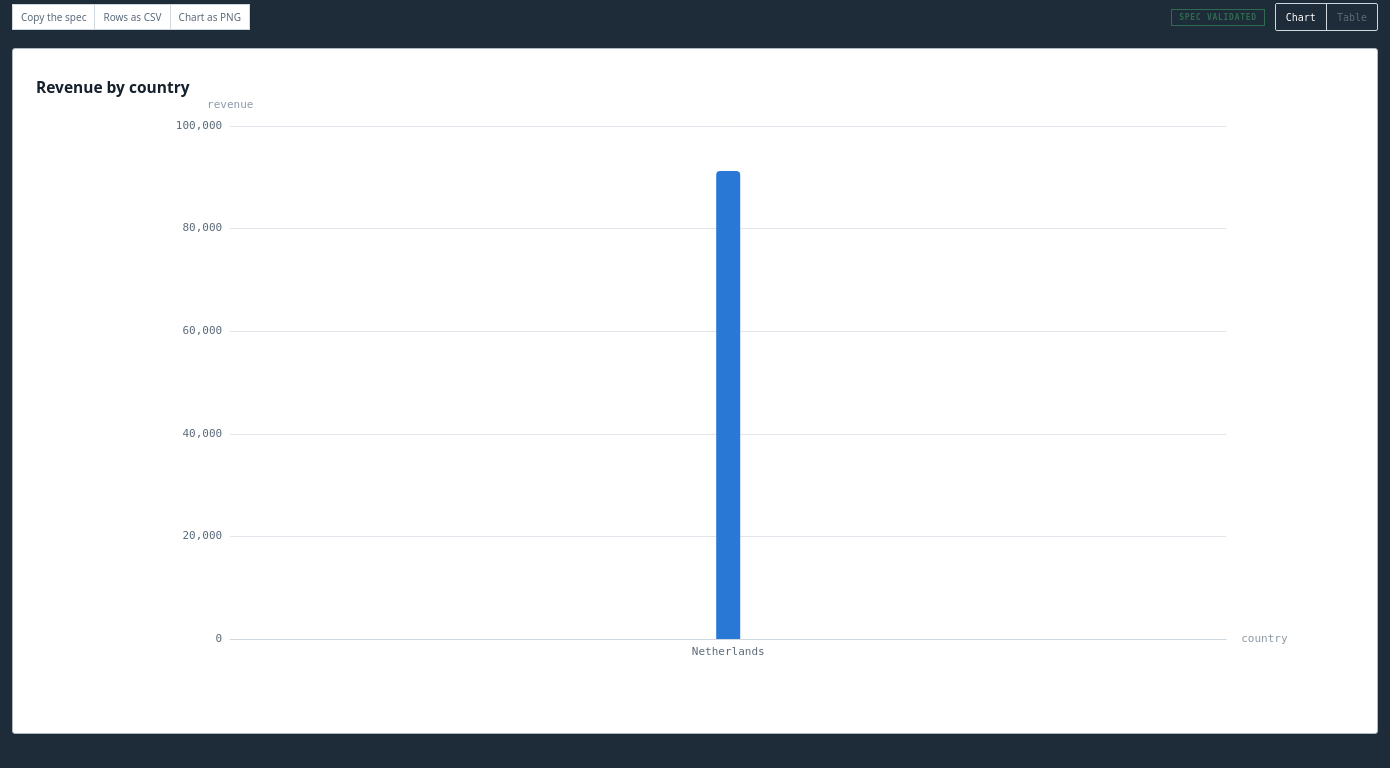
it: getting a chart out of the tab › hands the rows over as a file named after the chart
The width and height of the screenshot is (1390, 768).
Click the button "Rows as CSV".
click(132, 17)  # box [94,4,170,30]
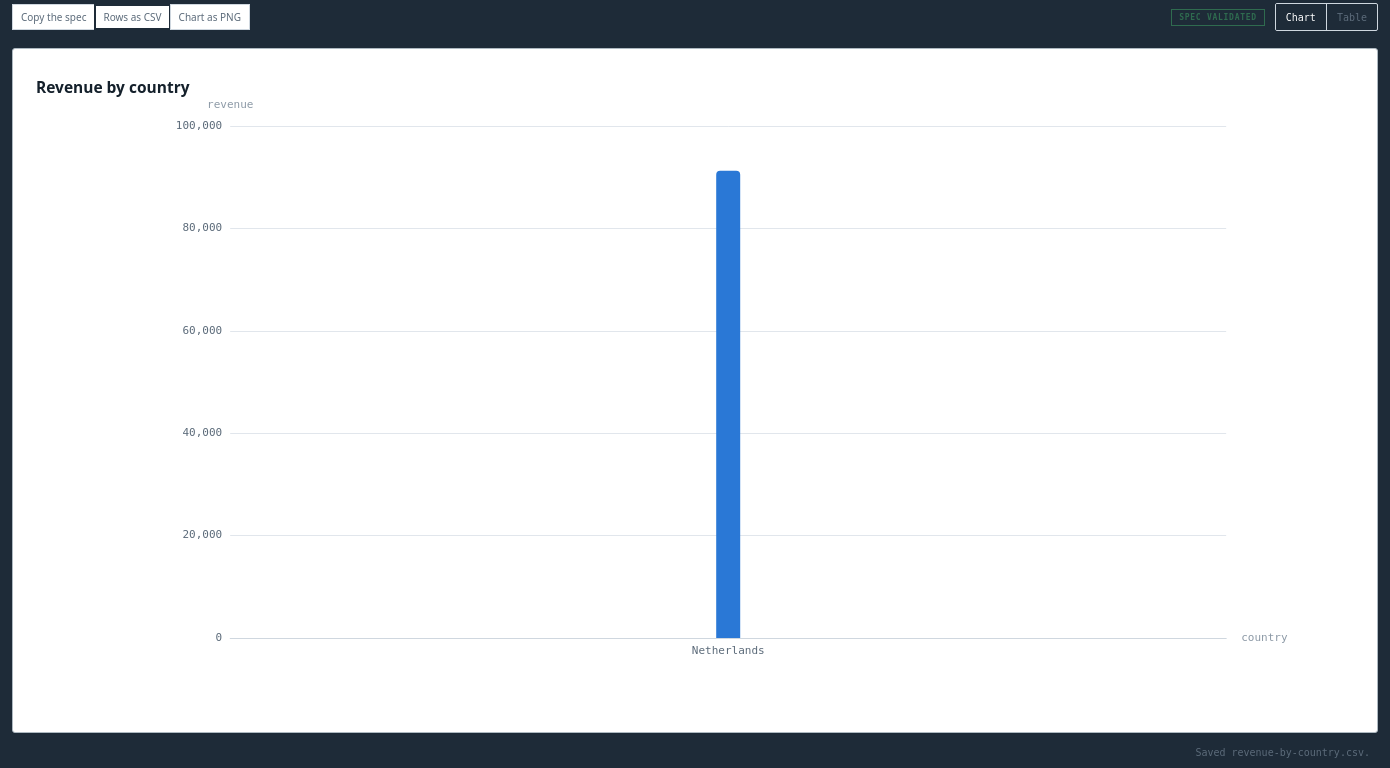
Result: the text "Saved revenue-by-country.csv." is shown at [1195,747,1370,758]
